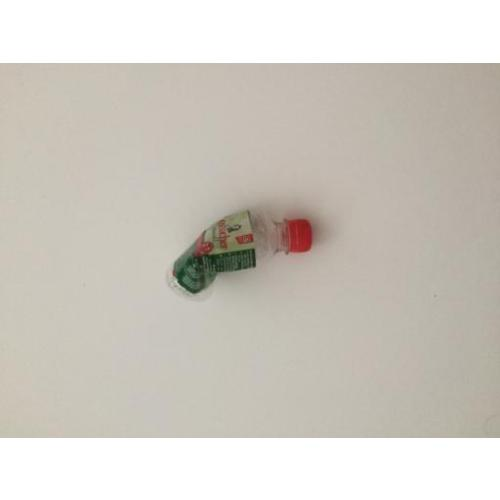plastic: (164, 210, 316, 303)
